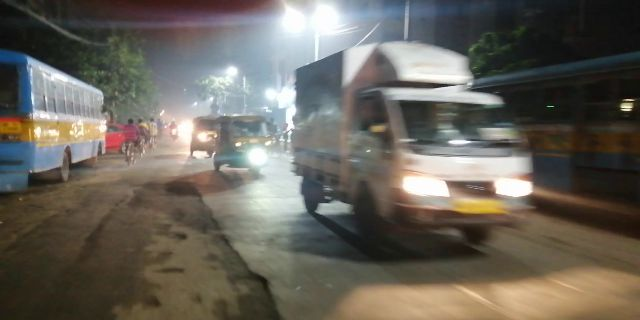Autorickshaw: (216, 112, 276, 175)
Bus: (1, 52, 109, 185)
Minitruck: (292, 38, 539, 242)
